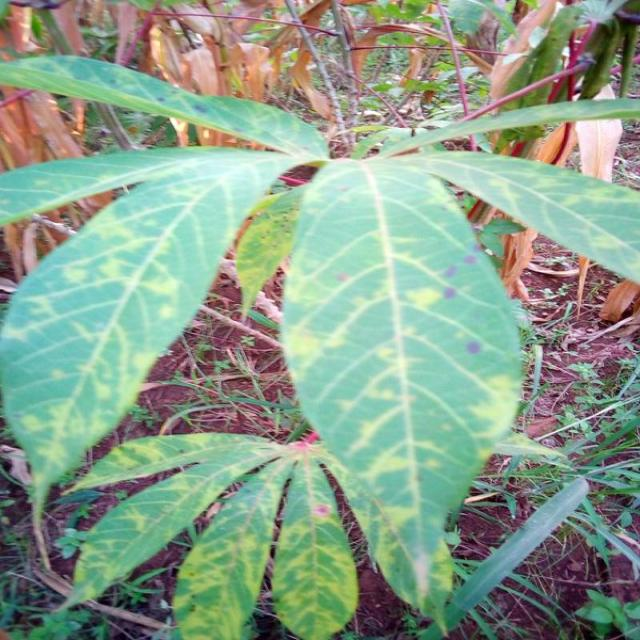cassava leaf: (1, 144, 316, 516), (278, 155, 525, 618)
